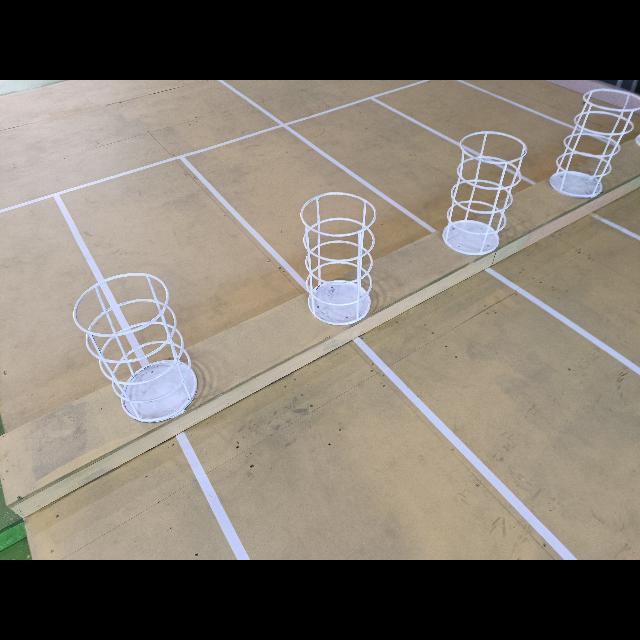S: (72, 273, 198, 424), (442, 131, 528, 256), (300, 191, 377, 326), (549, 88, 640, 199)
